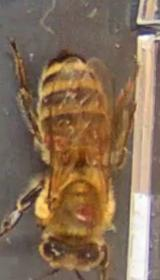varroa_mite: (63, 191, 109, 230), (35, 125, 74, 160)
